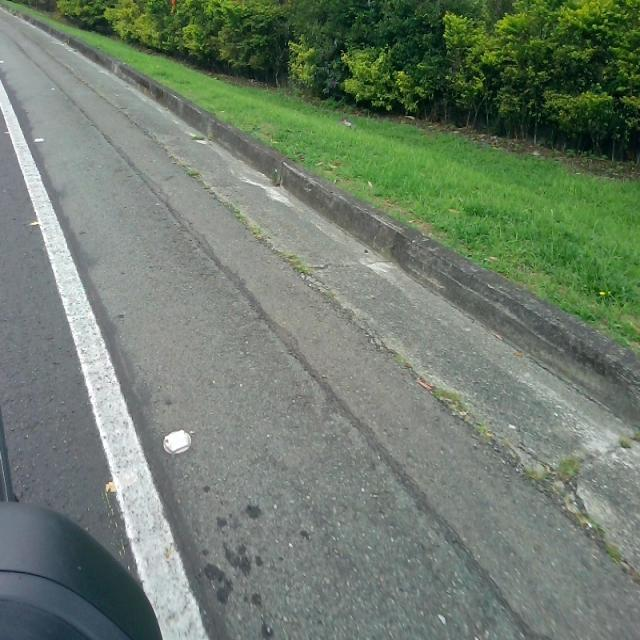DITCH: (1, 7, 638, 637), (66, 28, 638, 638), (63, 88, 639, 638)
